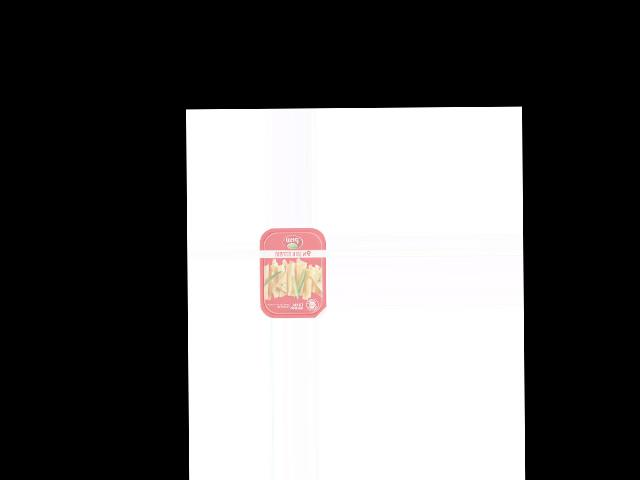cheese: (258, 227, 326, 318)
